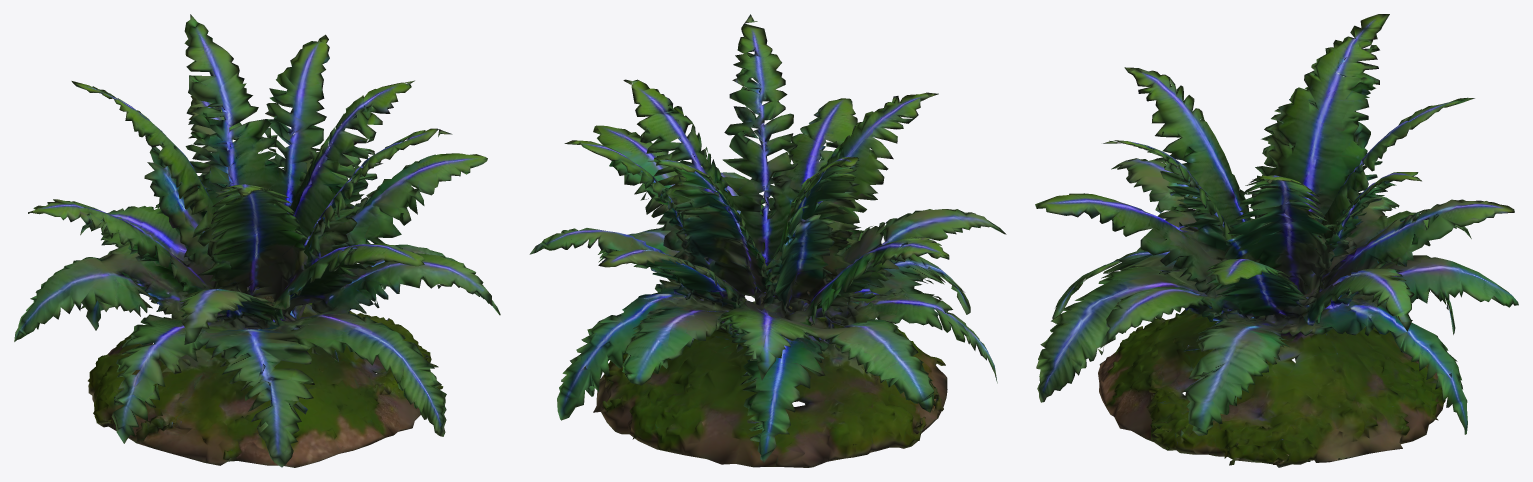
File: fern_sword_glow.glb
The picture shows the model from 3 angles, left to right: view 1: azimuth 30°, elevation 25°; view 2: azimuth 150°, elevation 25°; view 3: azimuth 270°, elevation 25°; orthographic projection. The views are drawn at different scales.
Bounding box in the file's own units: 1.99 × 1.43 × 2.
1 material, 1 textured.
